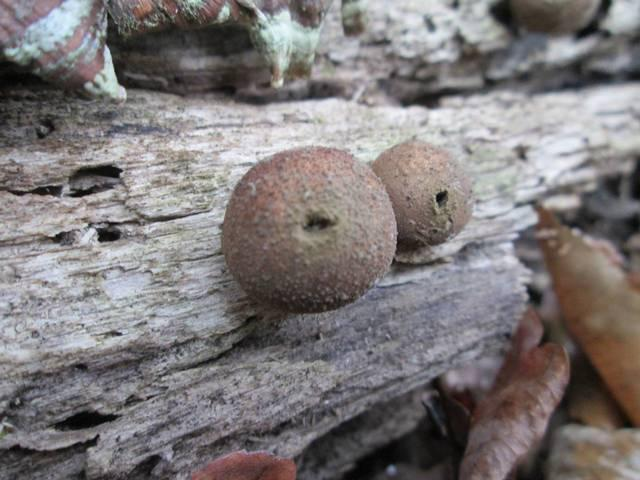poisonous_mushroom: (219, 143, 398, 314), (369, 136, 475, 261), (0, 0, 127, 104), (228, 0, 338, 90), (496, 0, 612, 41), (185, 448, 298, 479)
